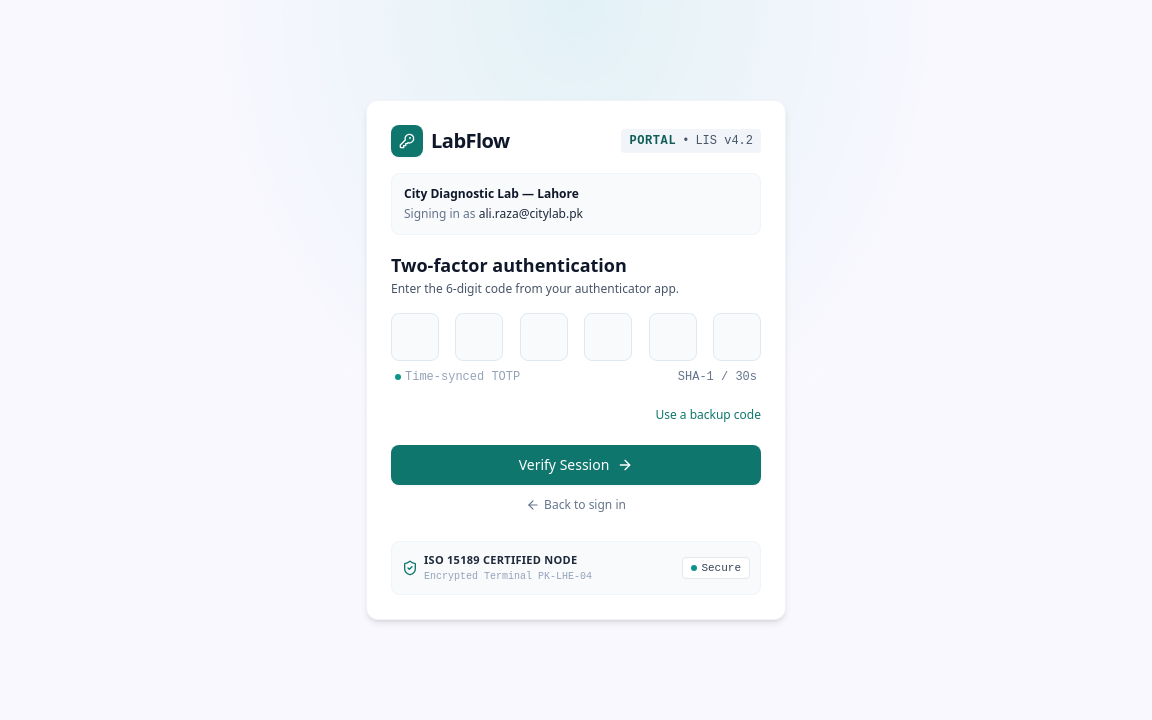
Test: Screen 02: Two-Factor Authentication (02-two-factor-auth.html & Doc 07 §5.1) › 6-digit TOTP Input Behavior › distributes pasted 6-digit code across all input boxes
Click the field named "Digit 1": click(415, 337) [391, 313, 439, 361]
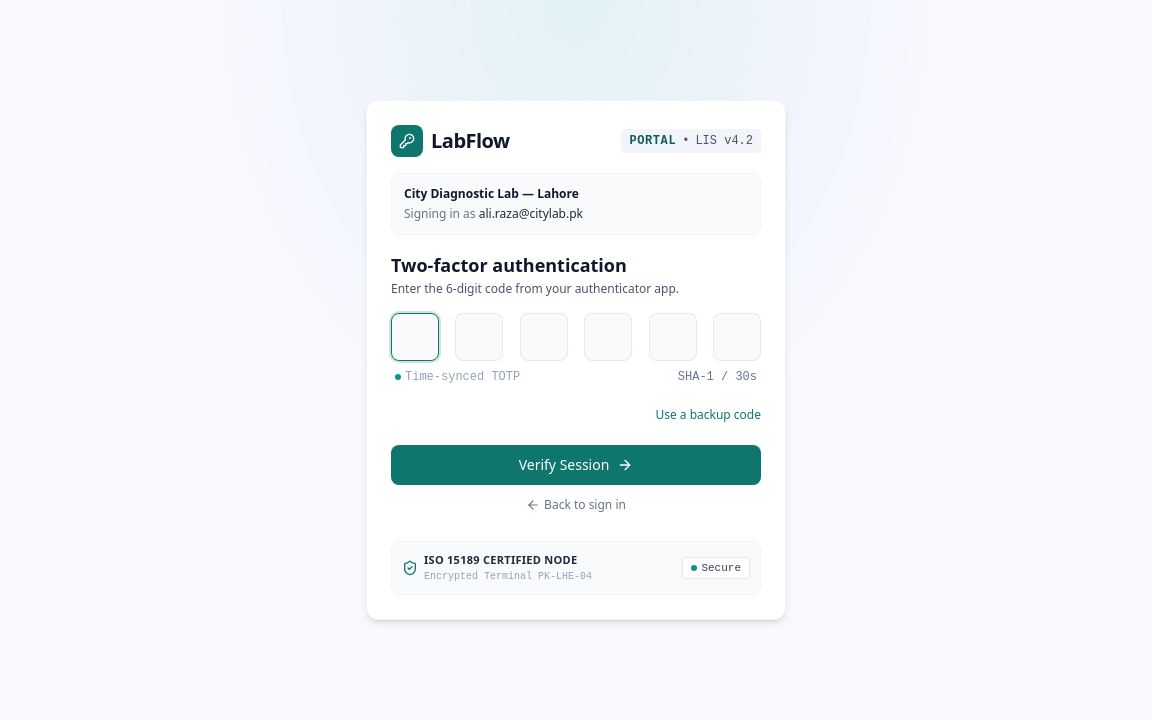
Type keys "841203"
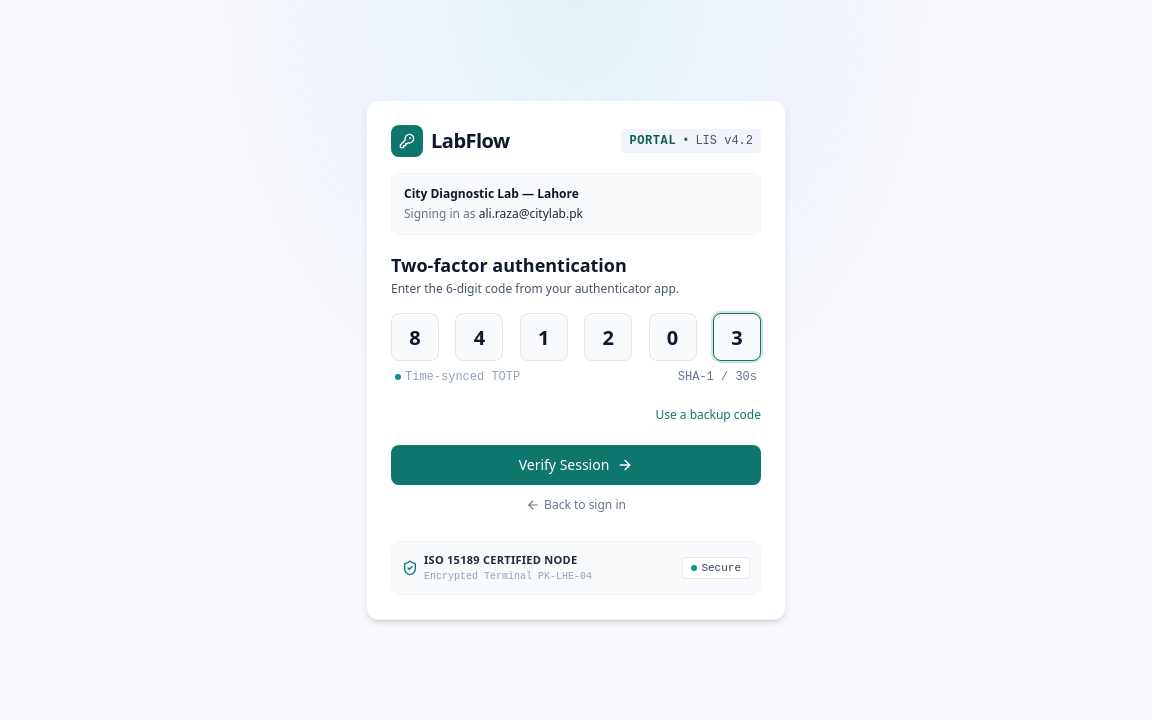
Check: the field named "Digit 1" holds "8", box [391, 313, 439, 361]
Check: the field named "Digit 2" holds "4", box [455, 313, 503, 361]
Check: the field named "Digit 3" holds "1", box [520, 313, 568, 361]
